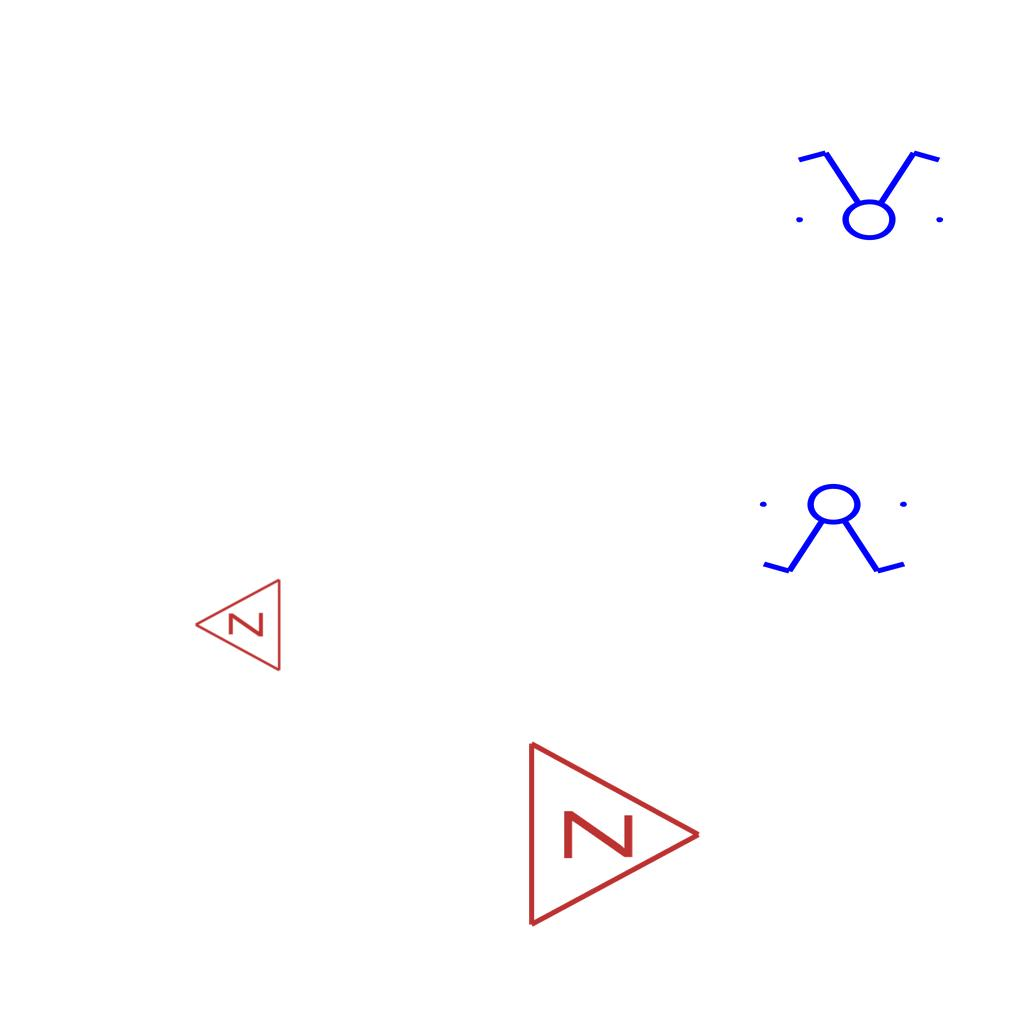Serienschalter: (751, 482, 919, 578), (784, 146, 952, 242)
Zimmersignalleuchte: (514, 734, 714, 930), (188, 577, 288, 675)
